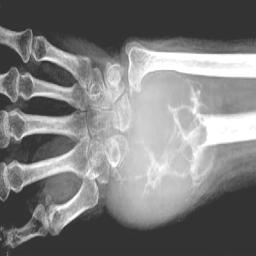cancer: (118, 86, 210, 198)
